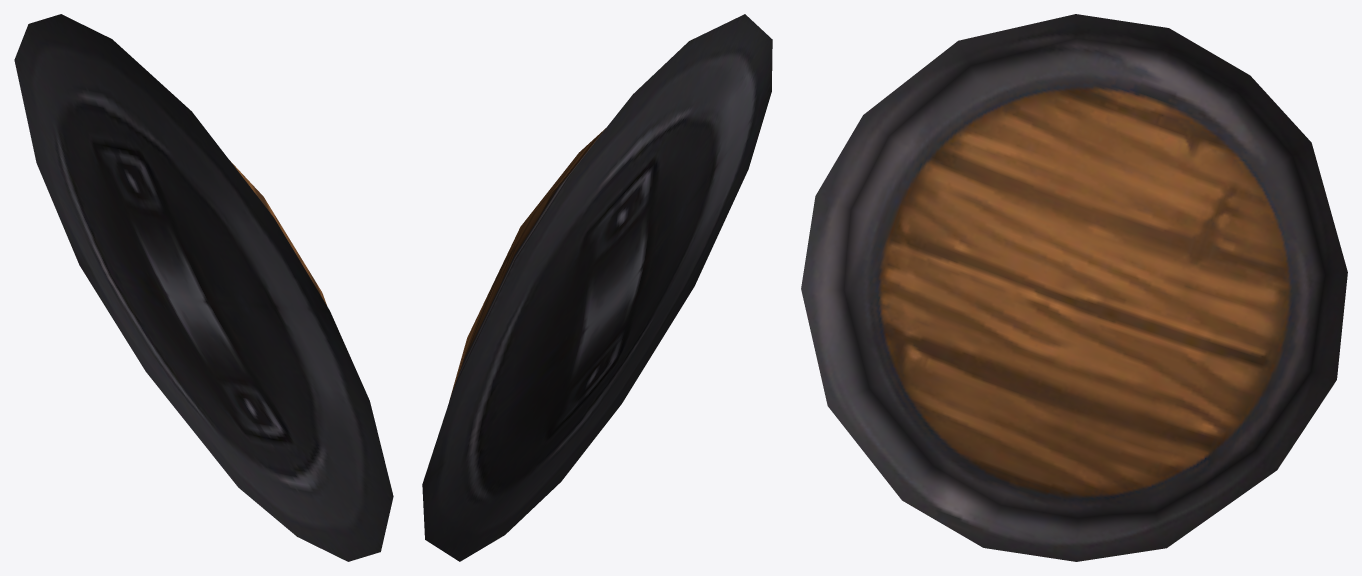
Rendered from 0000_shield.fbx.
3 views of the same model, side by side, from view 1: azimuth 30°, elevation 25°; view 2: azimuth 150°, elevation 25°; view 3: azimuth 270°, elevation 25° (orthographic). The views are drawn at different scales.
Visible parts, largest first — view 1: 0000_shield; view 2: 0000_shield; view 3: 0000_shield.
Boxes of the visible parts, bbox=[...] form: 0000_shield: bbox=[14, 14, 393, 561]; 0000_shield: bbox=[422, 14, 772, 561]; 0000_shield: bbox=[801, 14, 1347, 561].
Size of the model in its own units: 0.2879 by 0.8034 by 0.8476.
